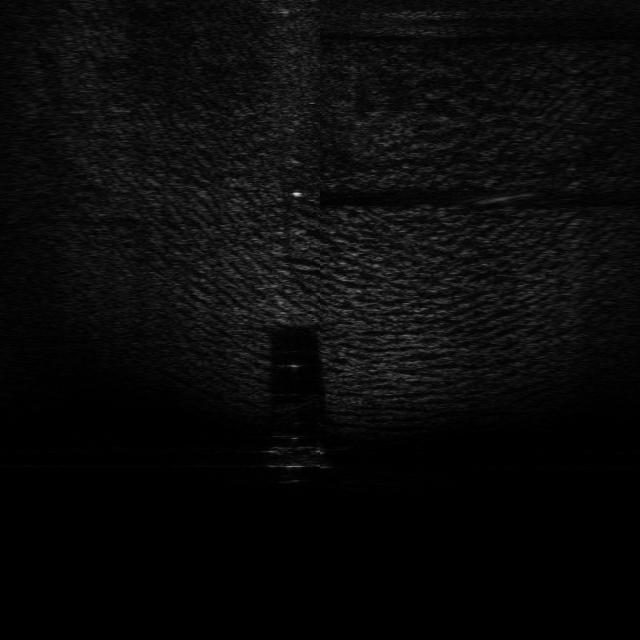cube: (272, 444, 326, 471)
